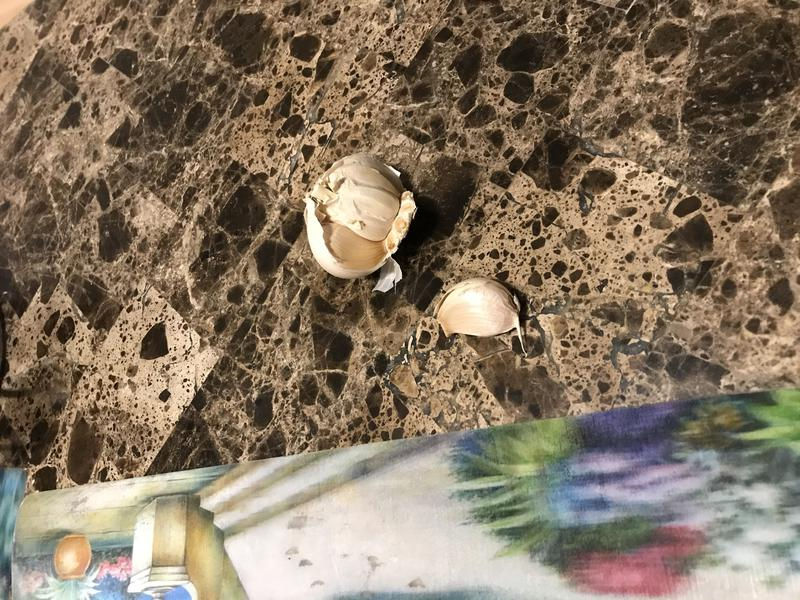garlic: (300, 153, 532, 347)
